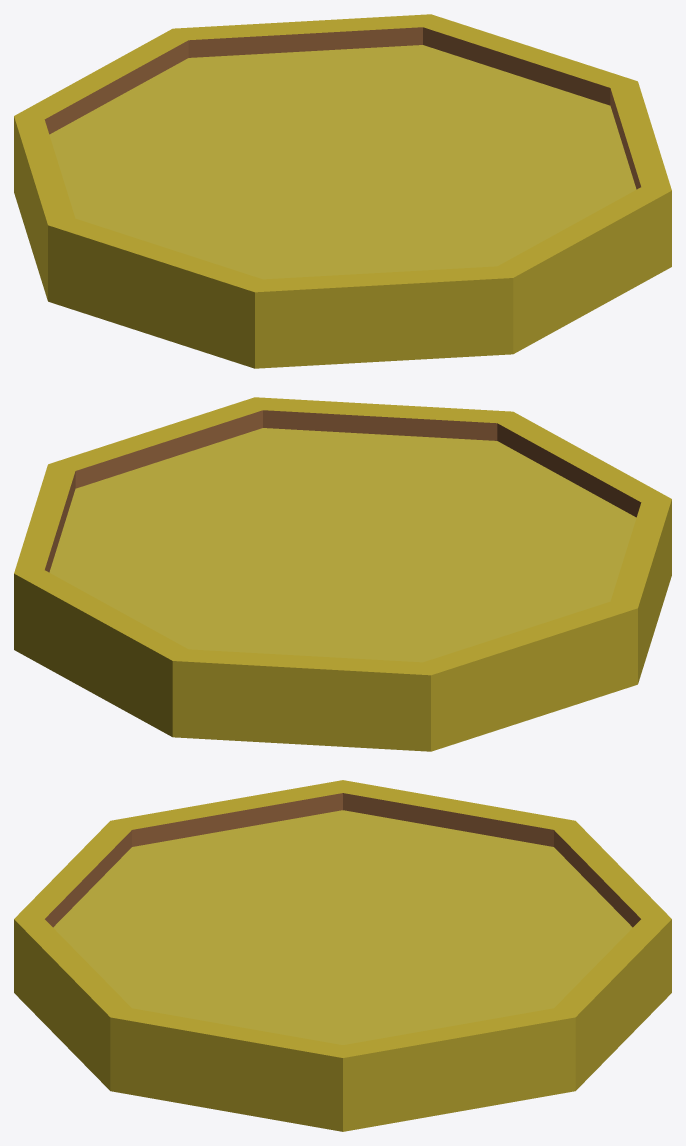
File: Coin.fbx
The picture shows the model from 3 angles, top to bottom: view 1: azimuth 30°, elevation 25°; view 2: azimuth 150°, elevation 25°; view 3: azimuth 270°, elevation 25°; orthographic projection. The views are drawn at different scales.
Parts seen in each view (by area): view 1: Circle; view 2: Circle; view 3: Circle.
Boxes of the visible parts, <box> form: Circle: <box>14,14,671,368</box>; Circle: <box>14,397,671,751</box>; Circle: <box>14,780,671,1131</box>.
Bounding box in the file's own units: 0.1392 × 0.0172 × 0.1392.
